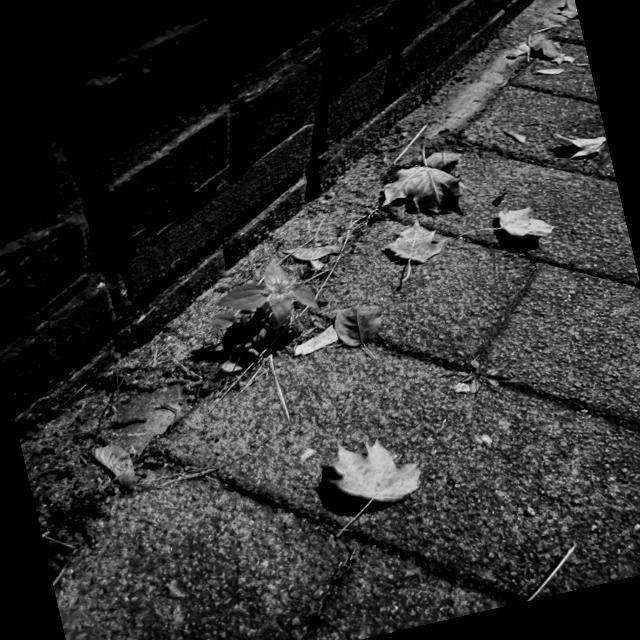leaves: (296, 422, 442, 541), (376, 134, 491, 276), (496, 20, 586, 91), (79, 428, 156, 493), (488, 193, 564, 257), (550, 115, 610, 168), (323, 304, 388, 348)
pavement: (17, 0, 639, 639)
weed: (198, 238, 346, 360), (434, 343, 517, 416)
